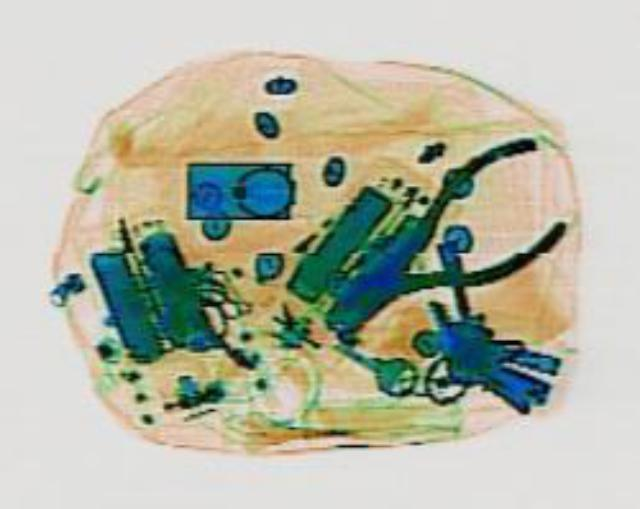Pliers: (272, 121, 616, 366)
